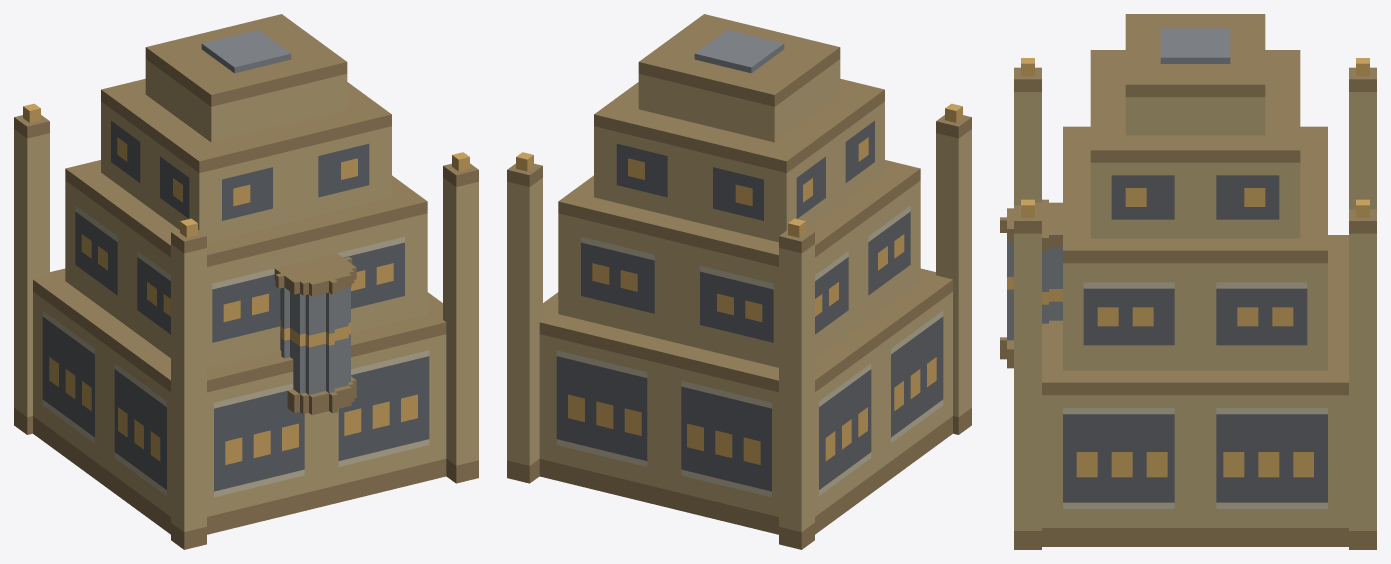
The model's file is works.glb.
3 views of the same model, side by side, from view 1: azimuth 30°, elevation 25°; view 2: azimuth 150°, elevation 25°; view 3: azimuth 270°, elevation 25° (orthographic). The views are drawn at different scales.
Bounding box in the file's own units: 52 × 68 × 54.
